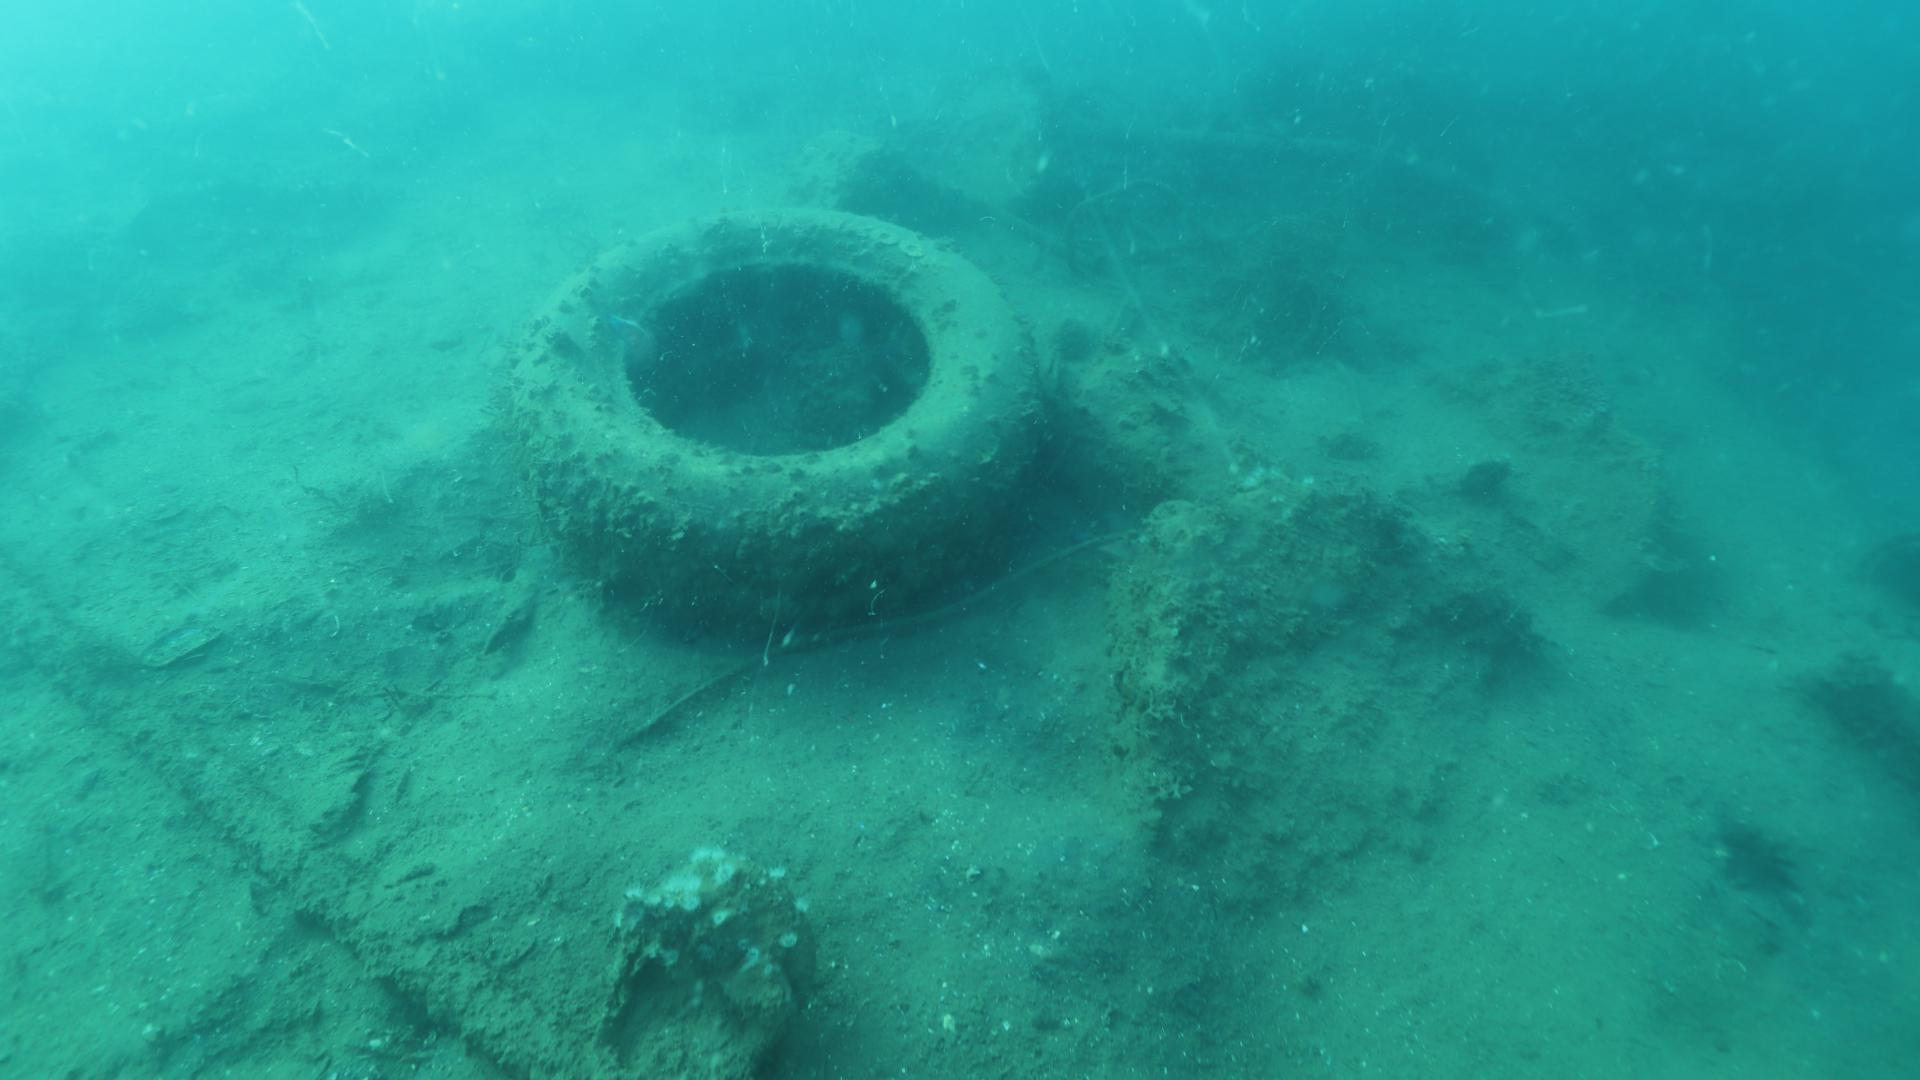tire: (518, 196, 1038, 626)
